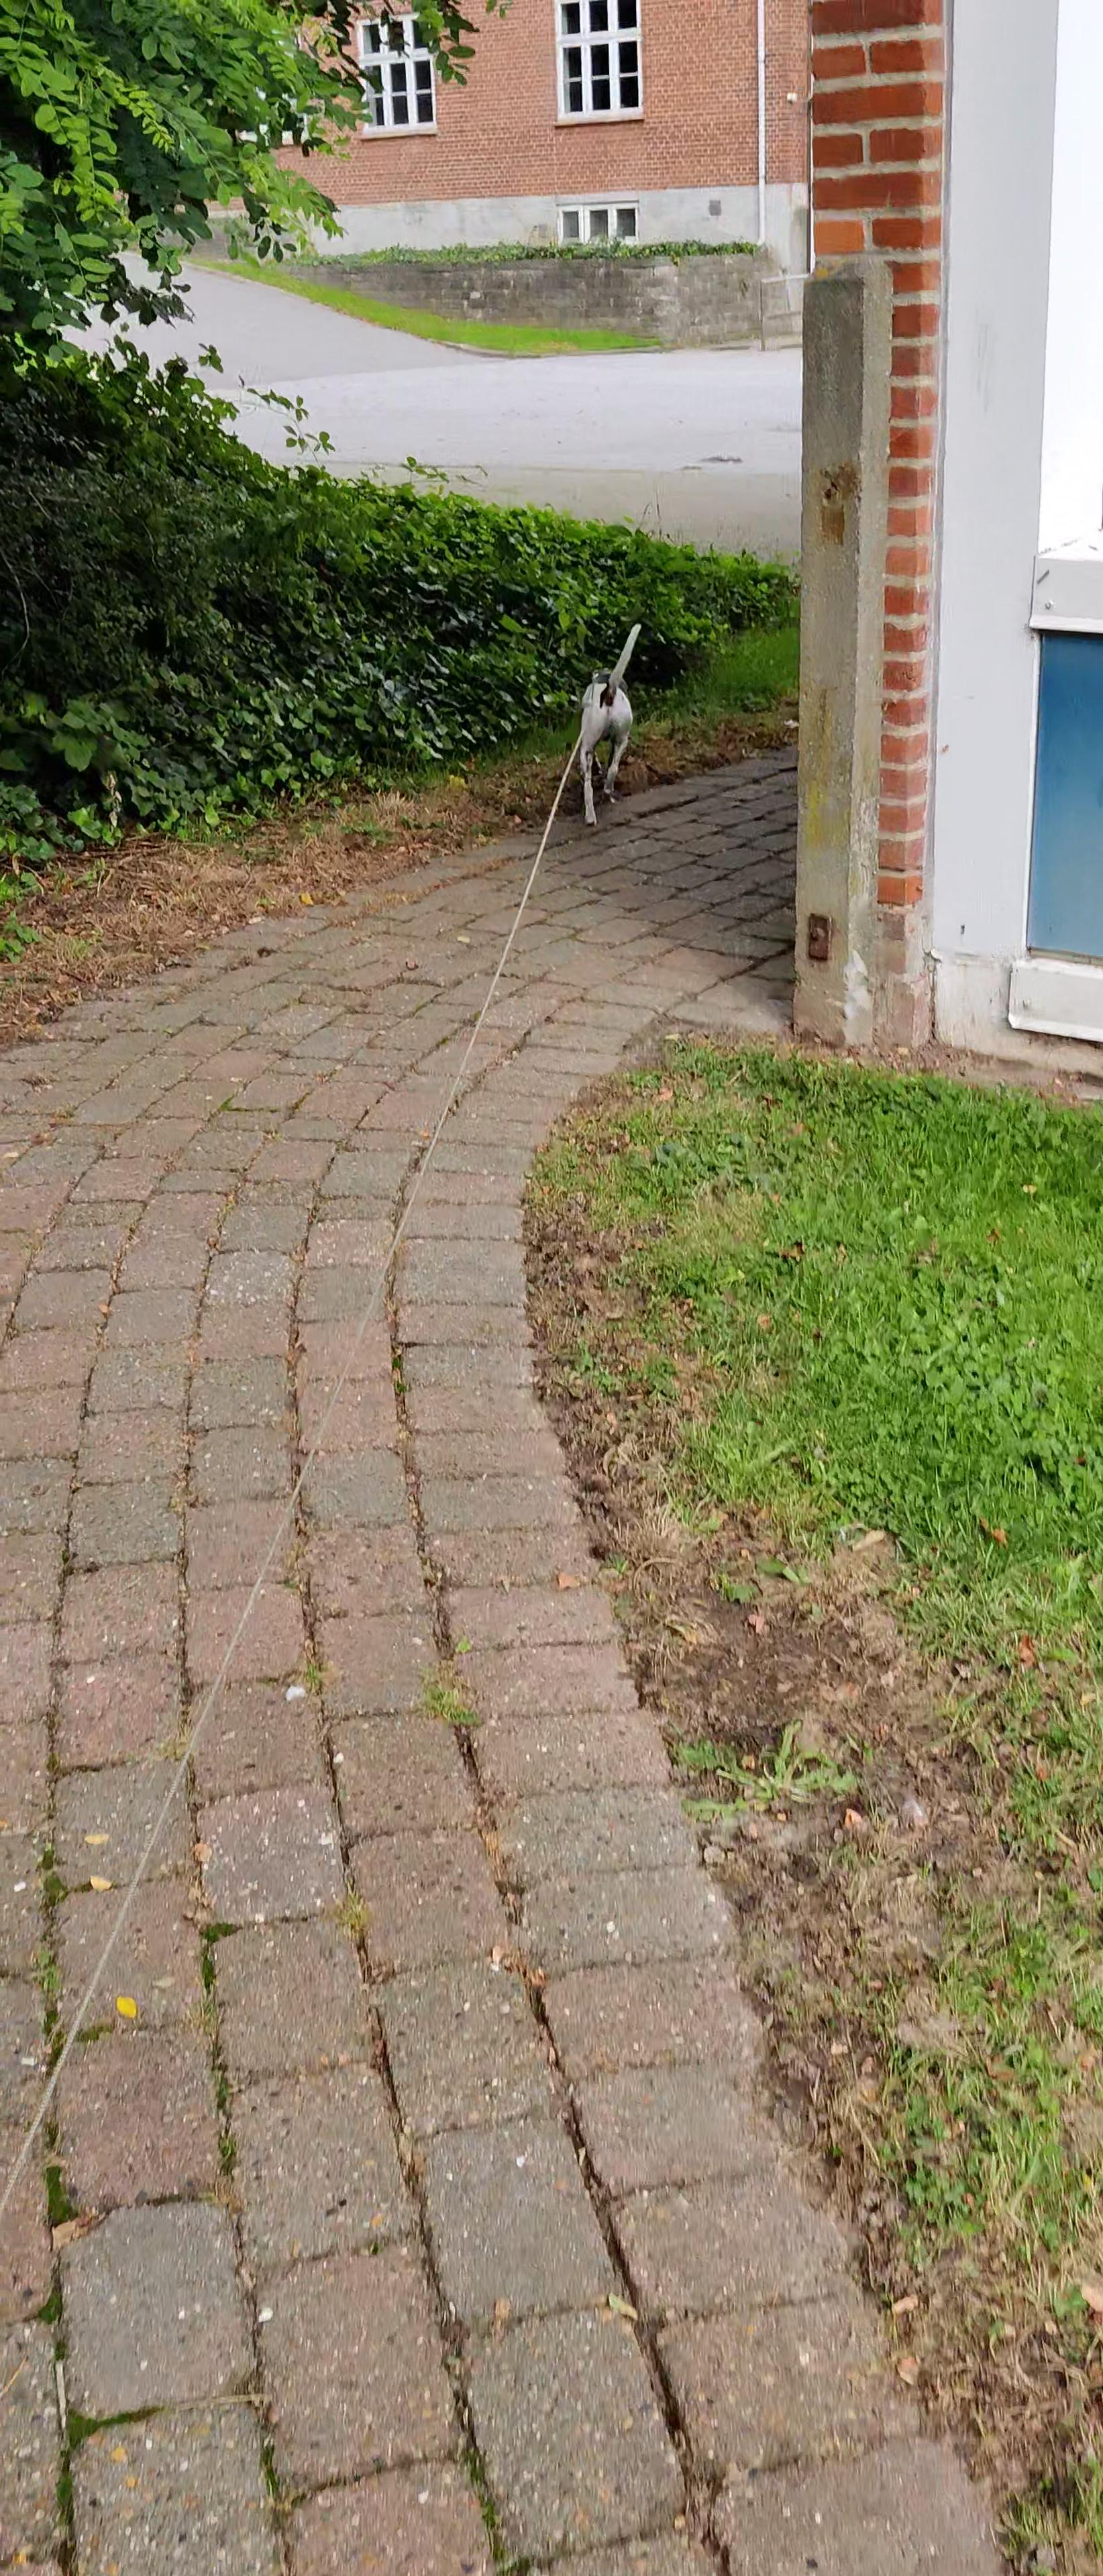Dog: (559, 613, 653, 831)
